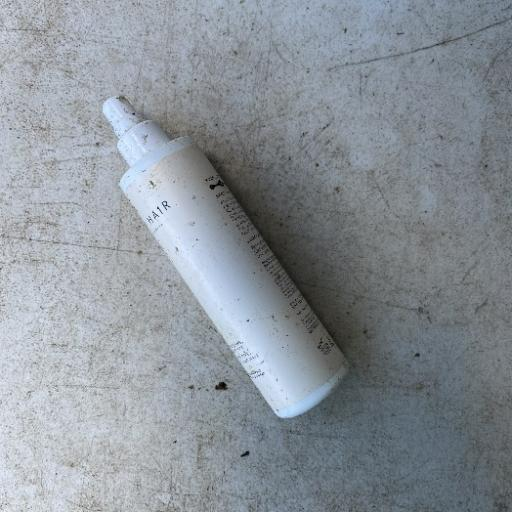Plastic: (98, 93, 352, 421)
